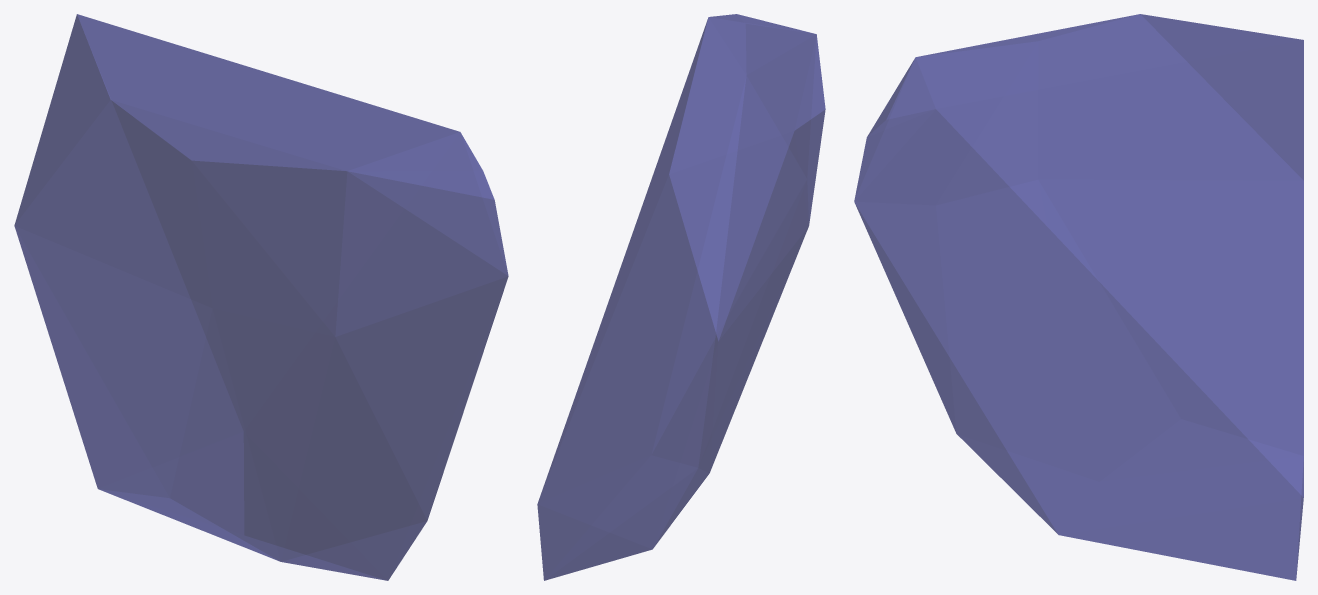
3 renders of one model, left to right at view 1: azimuth 30°, elevation 25°; view 2: azimuth 150°, elevation 25°; view 3: azimuth 270°, elevation 25°, orthographic. The views are drawn at different scales.
Visible parts, largest first — view 1: Shape_IndexedFaceSet.065_Shape_IndexedFaceSet.9037; view 2: Shape_IndexedFaceSet.065_Shape_IndexedFaceSet.9037; view 3: Shape_IndexedFaceSet.065_Shape_IndexedFaceSet.9037.
Boxes of the visible parts, bbox=[...] form: Shape_IndexedFaceSet.065_Shape_IndexedFaceSet.9037: bbox=[14, 14, 508, 580]; Shape_IndexedFaceSet.065_Shape_IndexedFaceSet.9037: bbox=[537, 14, 825, 580]; Shape_IndexedFaceSet.065_Shape_IndexedFaceSet.9037: bbox=[854, 14, 1303, 580].
Size of the model in its own units: 0.0685 by 0.1591 by 0.1369.
